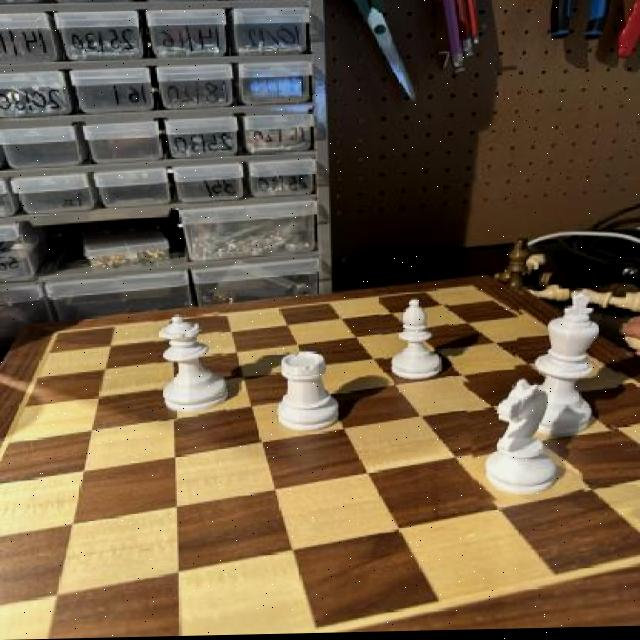black-rook: (381, 300, 452, 386)
white-bishop: (512, 289, 623, 445)
white-king: (466, 378, 580, 504)
white-pawn: (154, 313, 224, 422)
white-queen: (272, 351, 342, 437)
